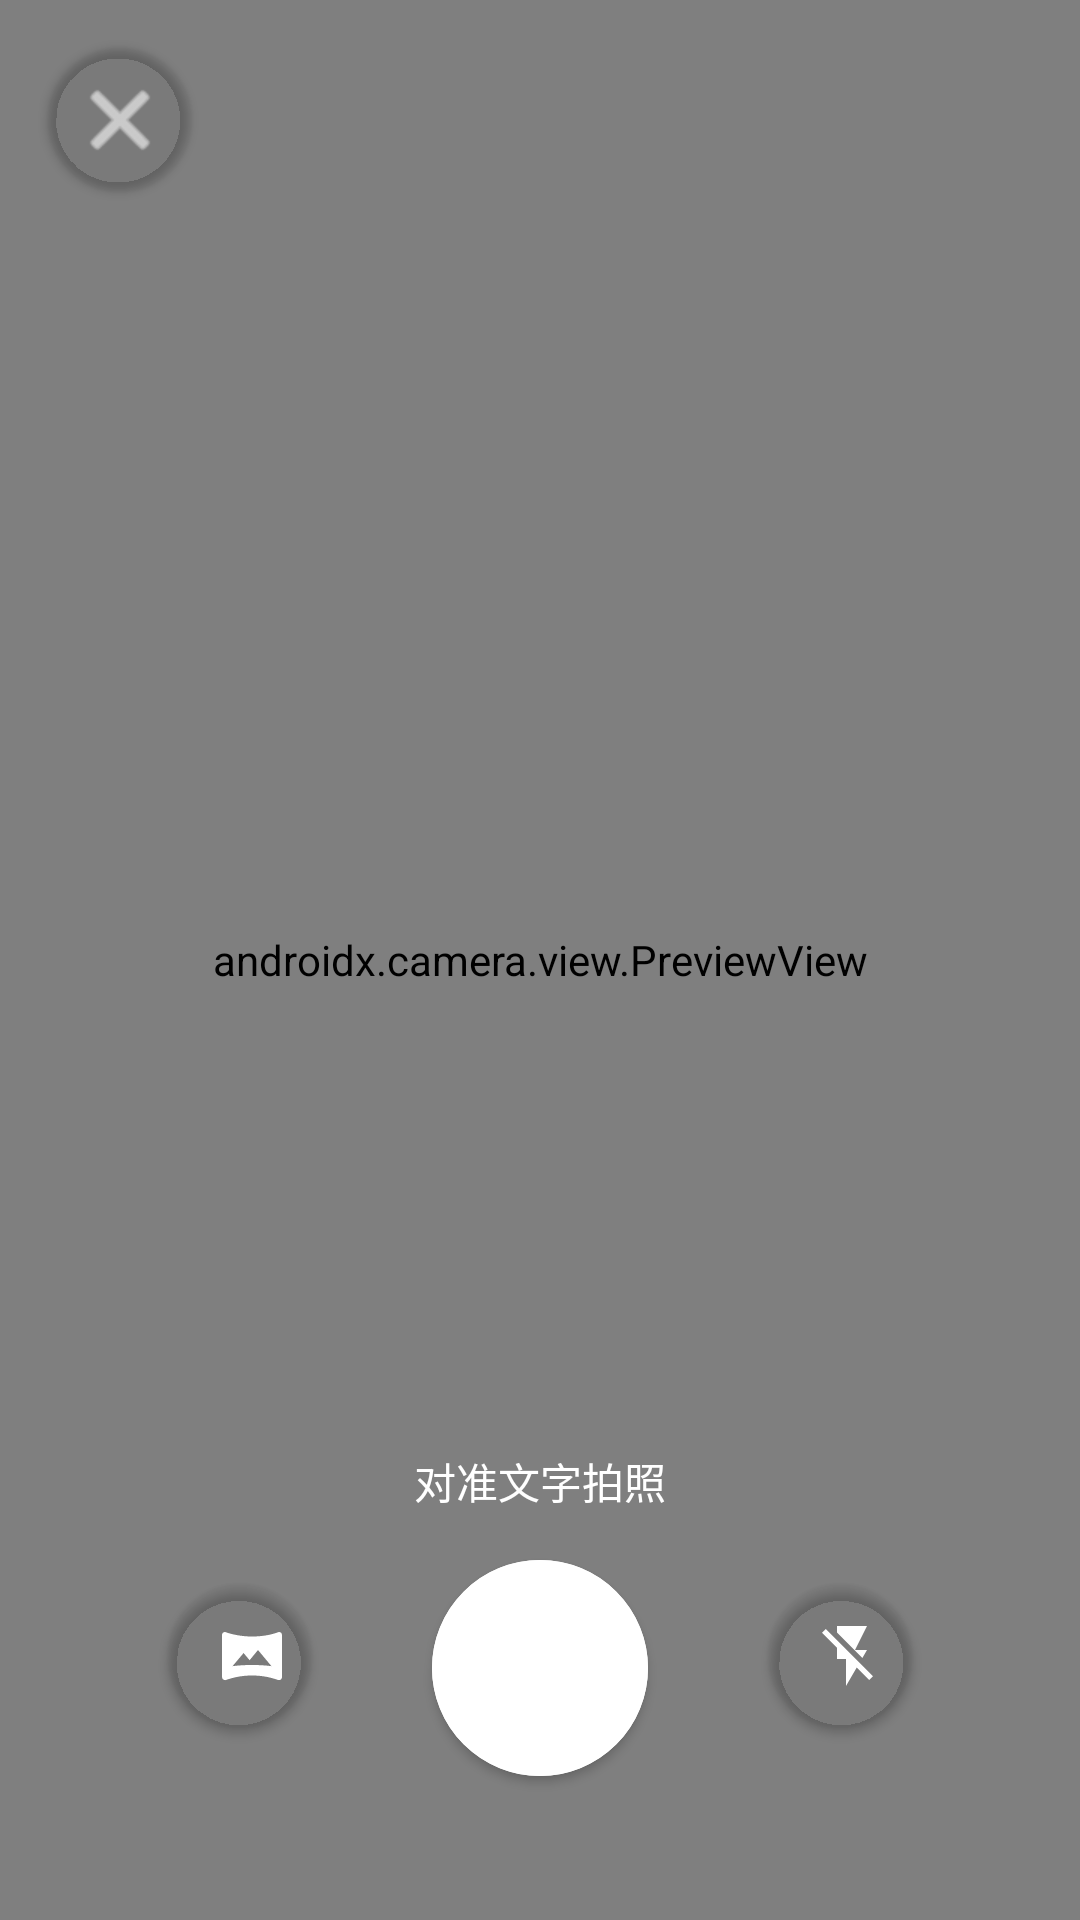

Point at icon controls on the screen. Image size 1080x1920, points as (x,y).
close clear cancel: (118,120)
flash off: (841,1662)
相册: (239,1662)
